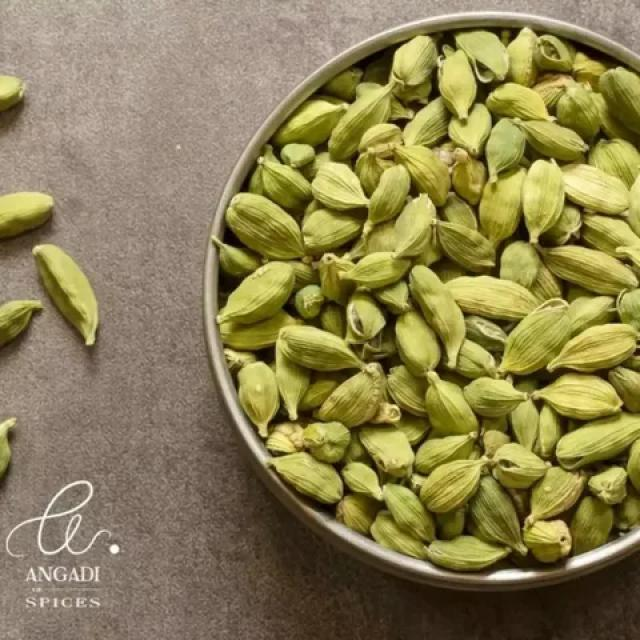Cardamom: (221, 28, 640, 573), (27, 238, 102, 352), (0, 181, 58, 241), (0, 294, 48, 348), (0, 408, 18, 481), (0, 70, 30, 108)
